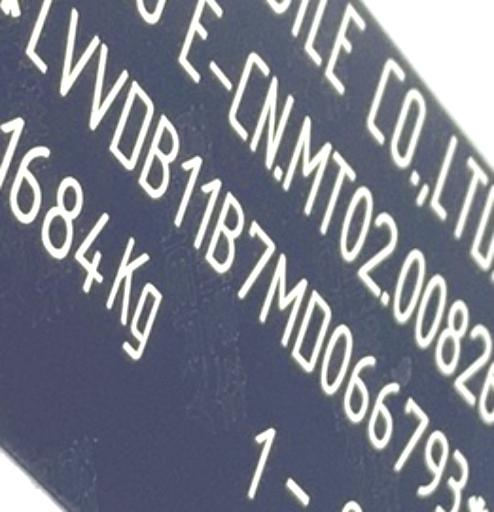letter: (258, 256, 307, 344), (111, 82, 156, 170), (54, 10, 99, 96), (138, 116, 183, 198), (290, 290, 331, 372), (89, 44, 126, 132), (206, 192, 247, 268), (236, 220, 276, 294), (392, 396, 428, 474), (340, 354, 377, 428), (22, 0, 57, 77), (366, 381, 403, 449), (190, 172, 222, 250), (169, 154, 203, 226), (319, 324, 353, 396), (413, 430, 447, 498), (433, 449, 470, 509)
